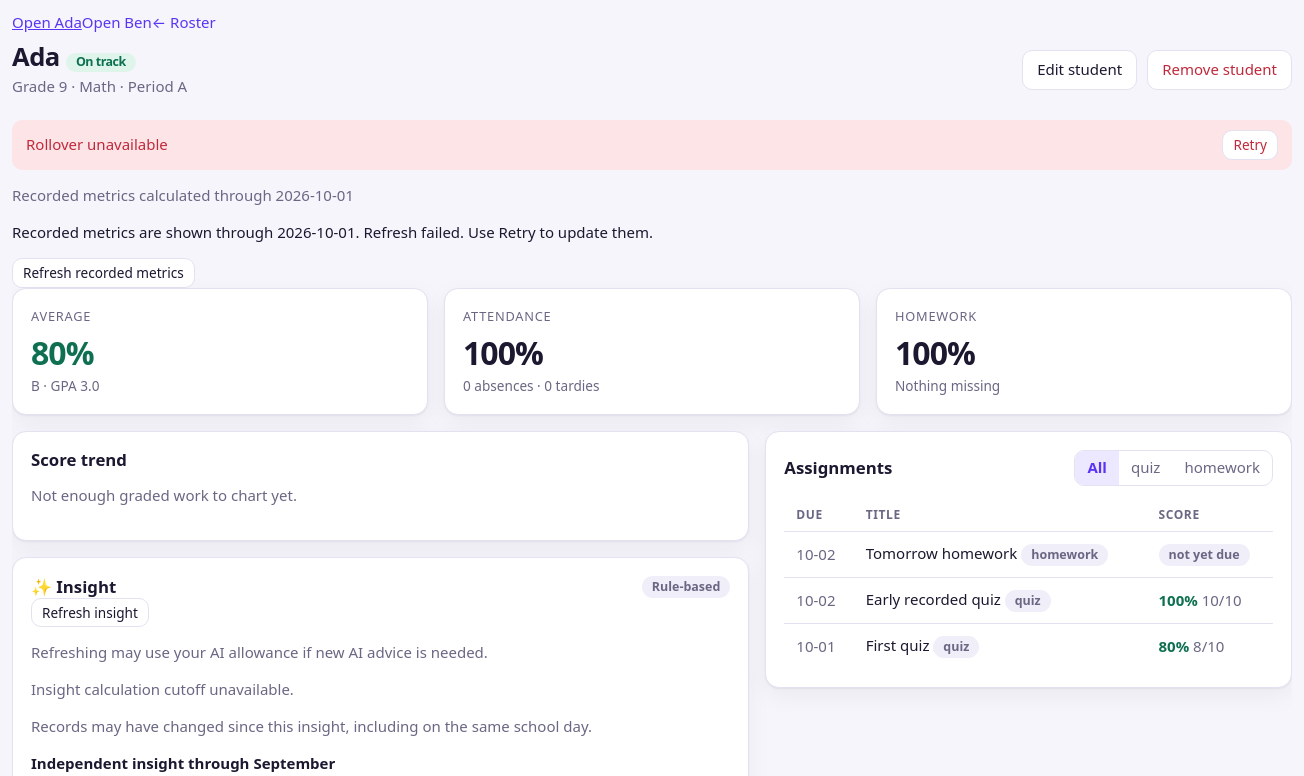
uses one inherited retry after rollover failure, preserves cutoff and recovers explicitly without an automatic loop
Expected: the heading "Ada On track" is shown, left=12, top=39, right=136, bottom=74
Expected: the text "Rollover unavailable" is shown, left=26, top=134, right=168, bottom=156
Click the button "Retry". click: (1250, 145)
box: left=1222, top=130, right=1278, bottom=160
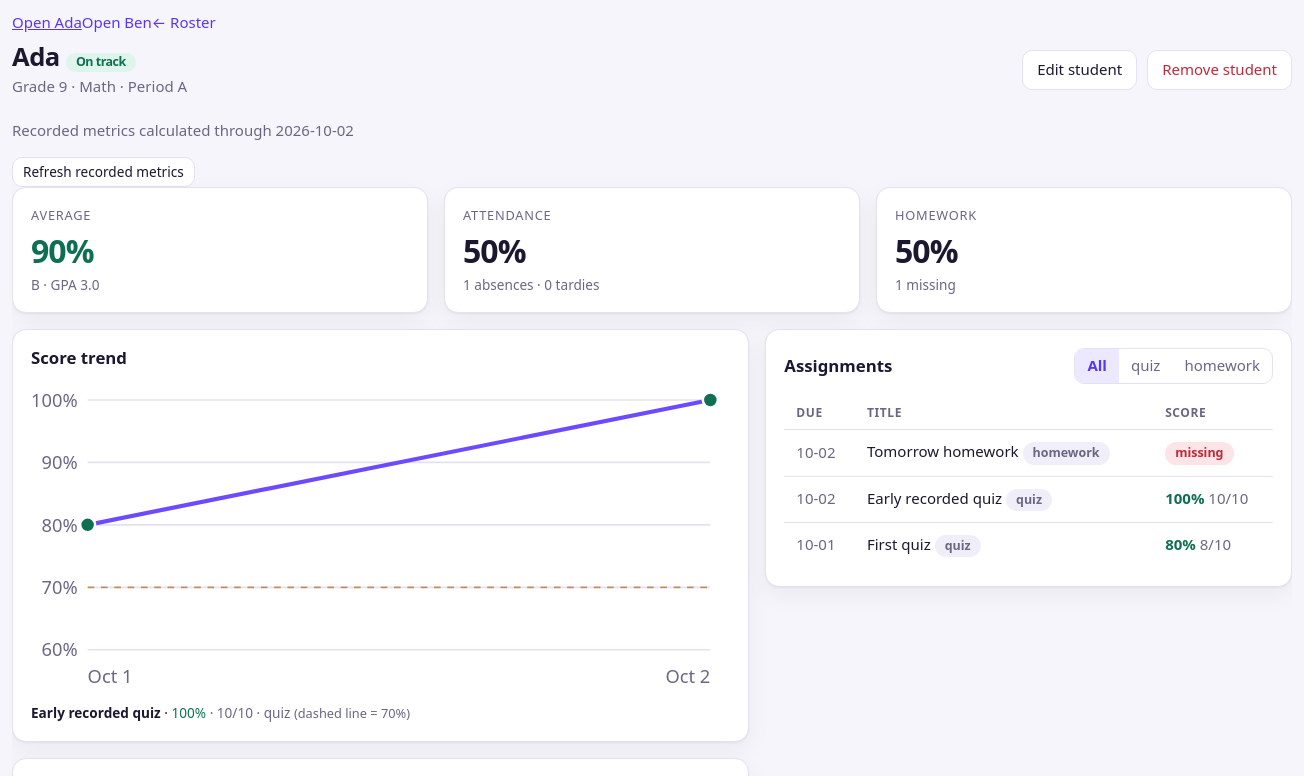
Now the text "Recorded metrics calculated through 2026-10-02" is shown, box left=12, top=120, right=354, bottom=140
